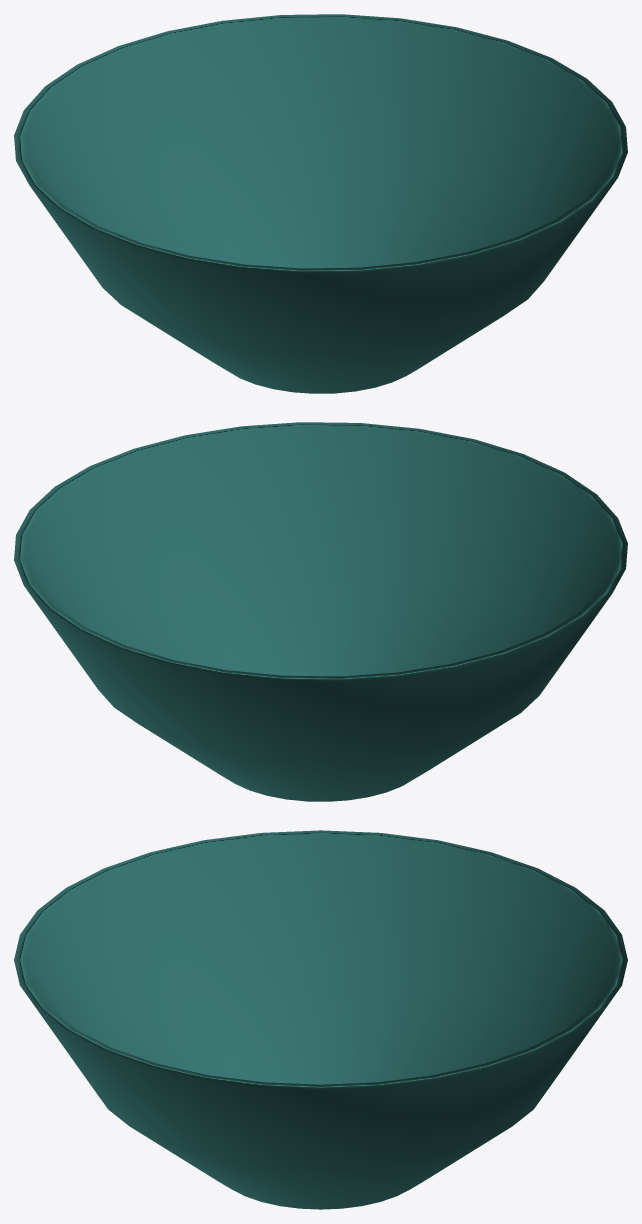
File: ATL-BWL-std.glb
3 renders of one model, top to bottom at view 1: azimuth 30°, elevation 25°; view 2: azimuth 150°, elevation 25°; view 3: azimuth 270°, elevation 25°, orthographic.
Visible parts, largest first — view 1: ATL-BWL-std; view 2: ATL-BWL-std; view 3: ATL-BWL-std.
Boxes of the visible parts, x1,y1,x2,y2 form: ATL-BWL-std: (14,14,627,393); ATL-BWL-std: (14,422,627,801); ATL-BWL-std: (14,830,627,1209).
Bounding box in the file's own units: 0.3 × 0.11 × 0.3.
